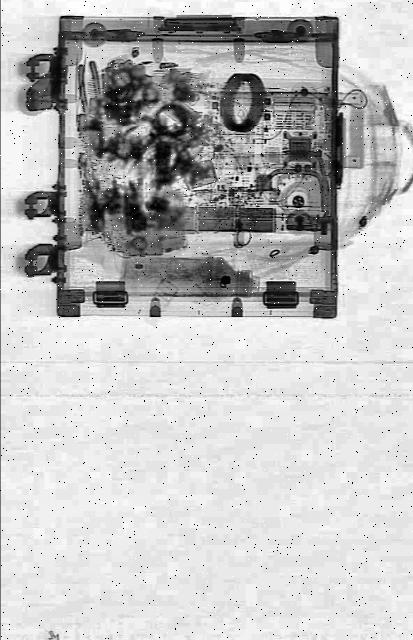Pliers: (76, 60, 108, 160)
